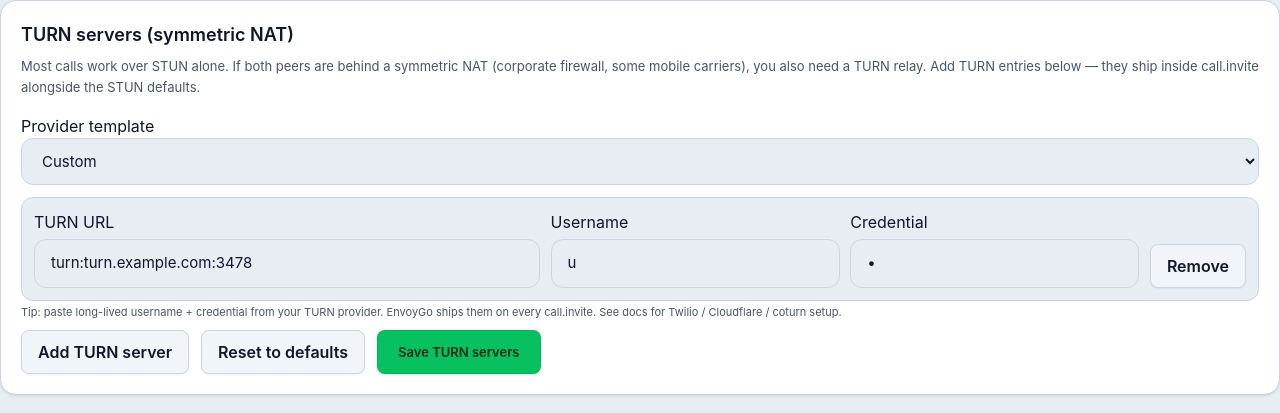
SettingsNodeTab — TURN servers editor (Phase 42H) › Reset to defaults clears the draft
This screenshot has width=1280, height=413.
Click the button with test id "turn-reset": point(283, 352) [201,330,365,374]
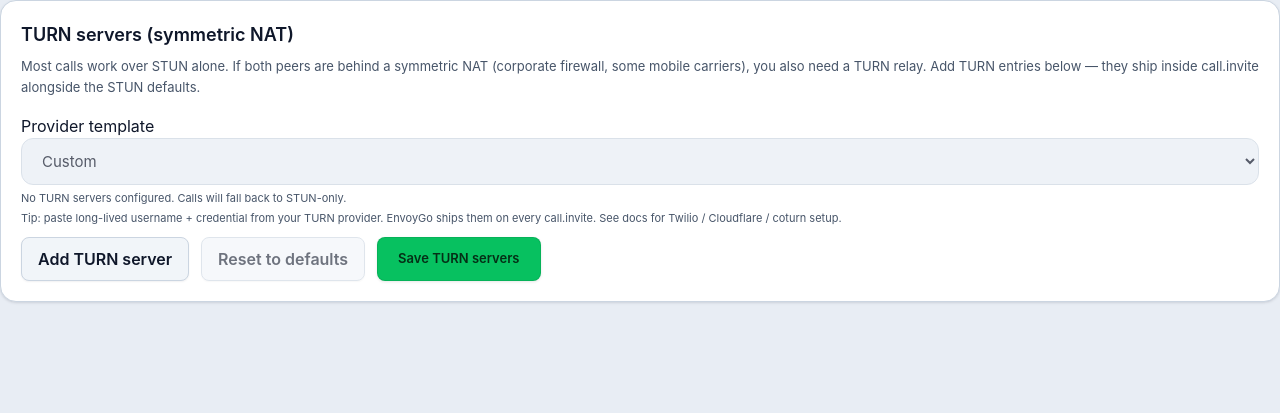
expect the text "No TURN servers configured. Calls will fall back to STUN-only." is shown: met, box [21,191,346,205]
